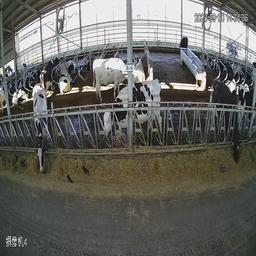cow: (87, 82, 164, 146), (210, 77, 242, 164), (30, 84, 58, 170), (87, 53, 130, 95), (240, 73, 256, 143), (38, 52, 62, 94), (59, 62, 80, 102), (130, 49, 151, 86), (206, 49, 220, 73), (18, 78, 28, 111)
